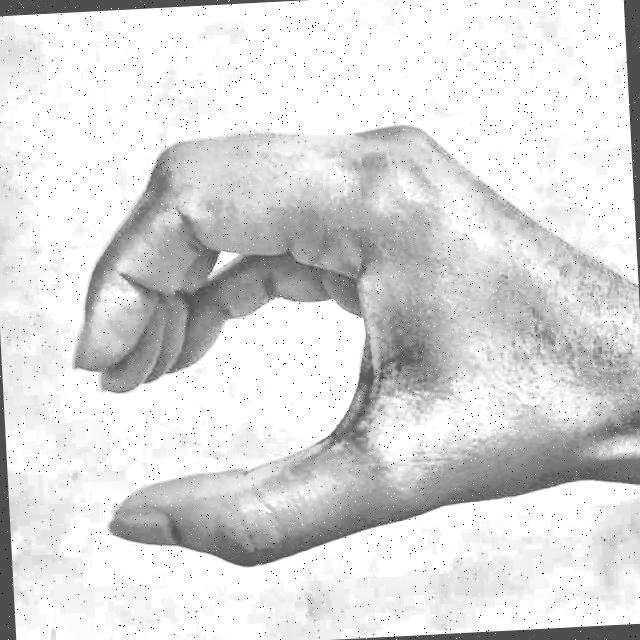Ka: (39, 48, 612, 630)
